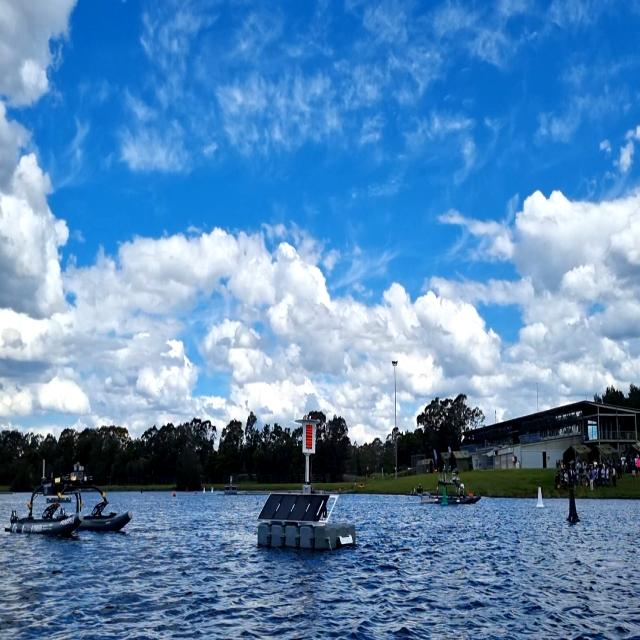led: (304, 423, 314, 451)
